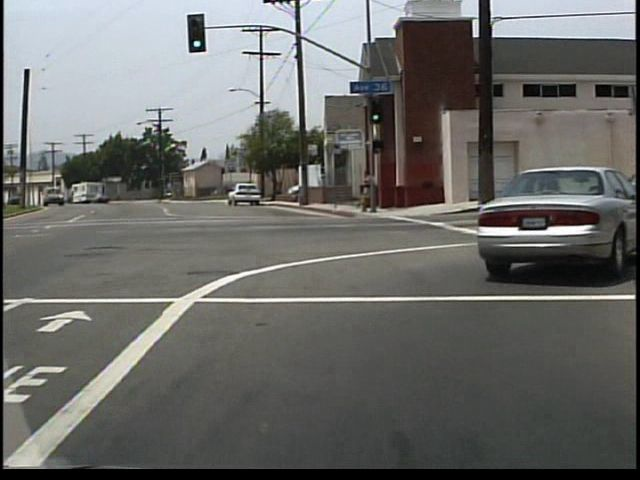person: (357, 170, 377, 214)
